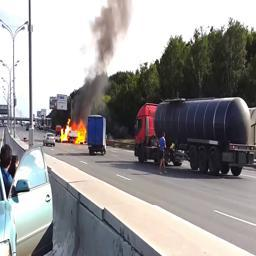fire: (62, 119, 86, 144)
